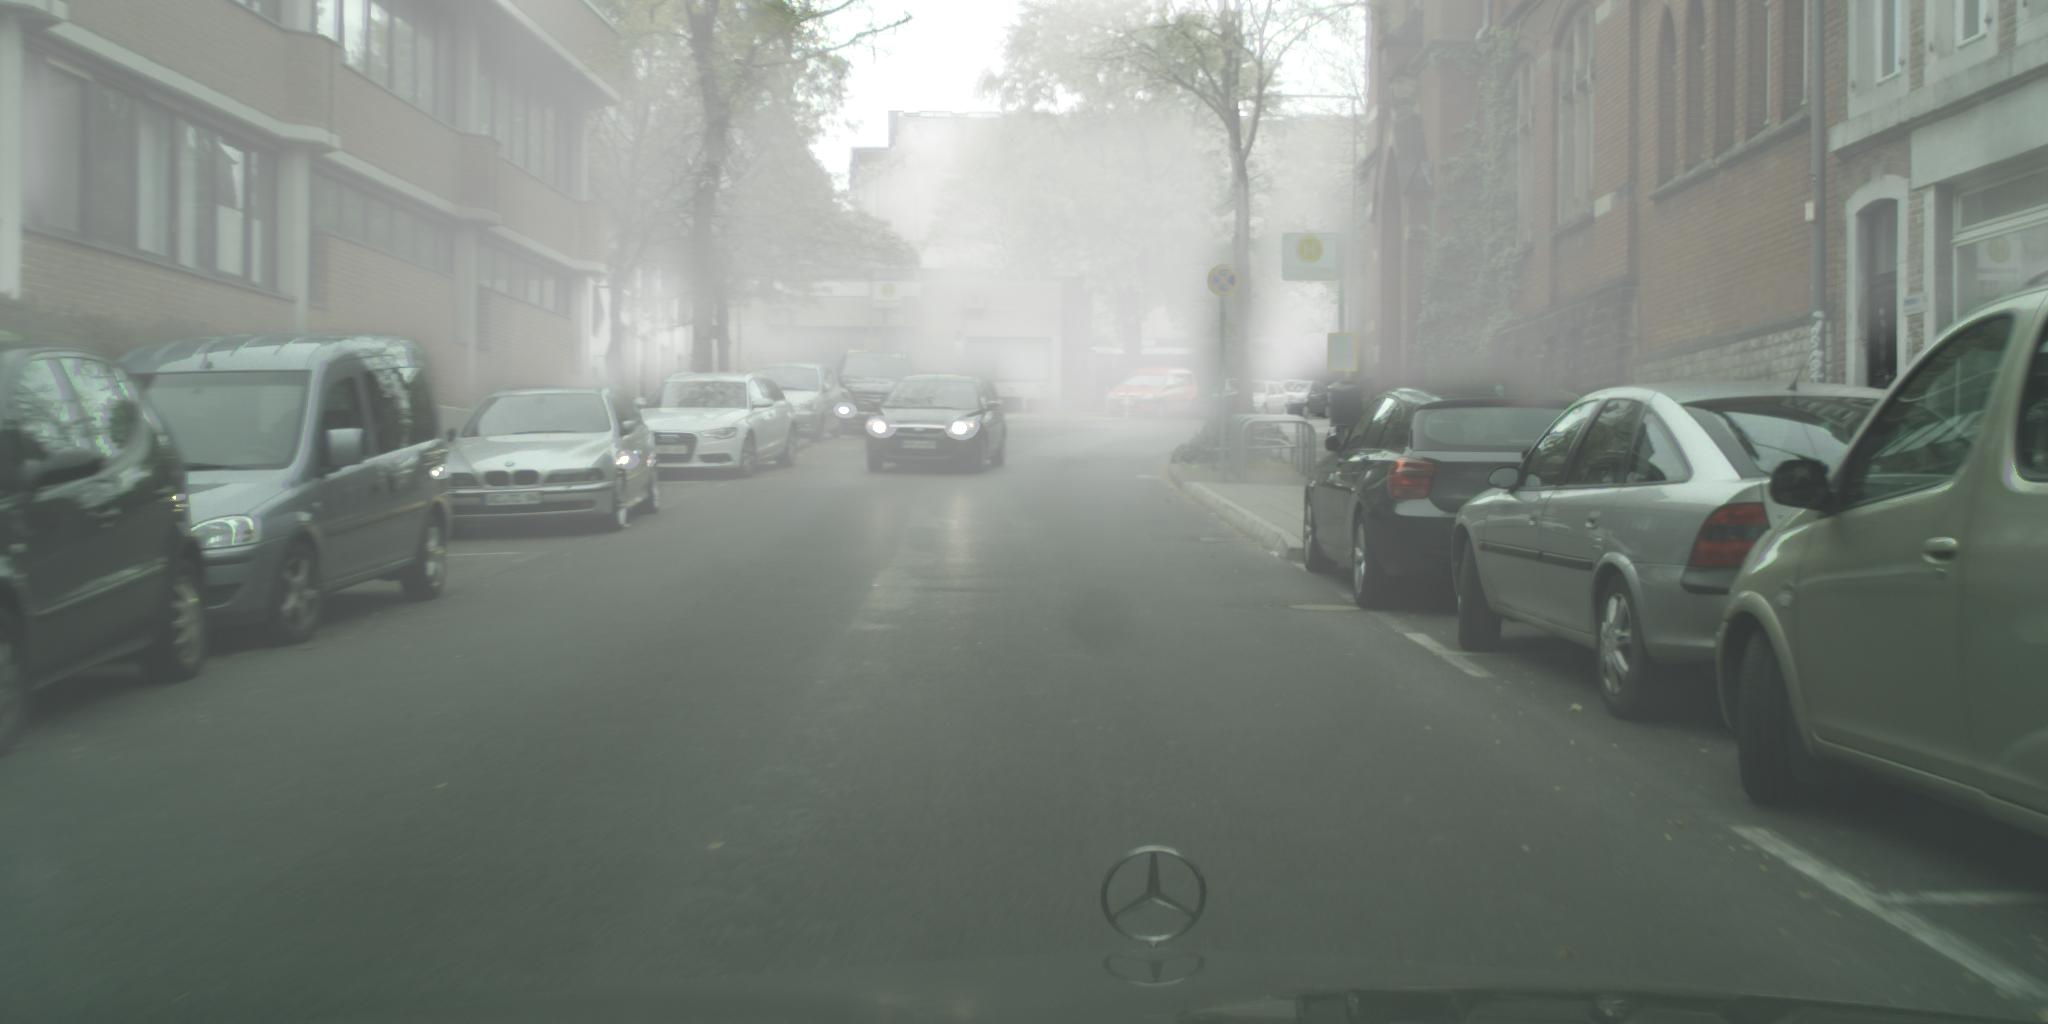car: (1716, 272, 2048, 839), (1451, 379, 1908, 724), (94, 332, 455, 648), (1, 342, 209, 761), (1304, 384, 1586, 613), (438, 380, 661, 542), (632, 372, 798, 479), (865, 374, 1008, 475), (812, 350, 917, 436), (755, 362, 844, 444), (1108, 367, 1202, 421), (1189, 372, 1237, 421), (1280, 379, 1335, 419), (1250, 380, 1290, 418)
